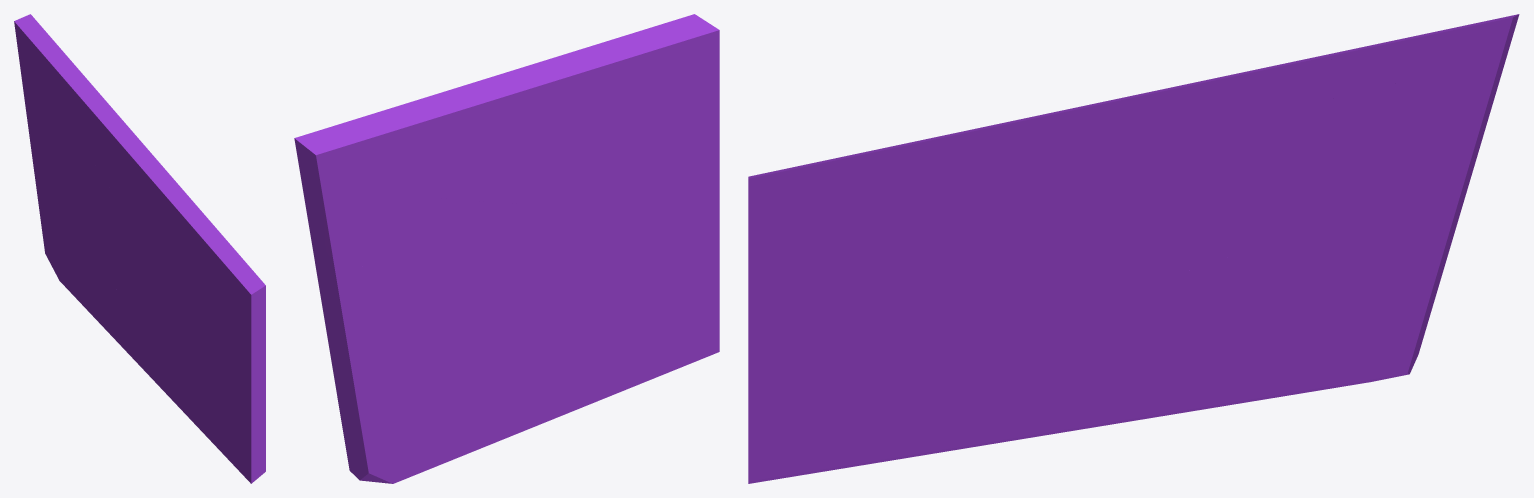
File: Window_16_6_chunks.fbx
The picture shows the model from 3 angles, left to right: view 1: azimuth 30°, elevation 25°; view 2: azimuth 150°, elevation 25°; view 3: azimuth 270°, elevation 25°; orthographic projection. The views are drawn at different scales.
Visible parts, largest first — view 1: Window_16_6_2, Window_16_6_1, Window_16_6_0, Window_16_6_6, Window_16_6_4, Window_16_6_3; view 2: Window_16_6_2, Window_16_6_1, Window_16_6_0, Window_16_6_6, Window_16_6_4, Window_16_6_3, Window_16_6_5; view 3: Window_16_6_2, Window_16_6_1, Window_16_6_6, Window_16_6_3, Window_16_6_5, Window_16_6_4.
Part boxes in pixels (<box>): Window_16_6_2: <box>114,197,265,483</box>; Window_16_6_1: <box>24,98,120,345</box>; Window_16_6_0: <box>17,47,132,247</box>; Window_16_6_6: <box>80,78,189,207</box>; Window_16_6_4: <box>14,14,86,134</box>; Window_16_6_3: <box>75,132,152,222</box>; Window_16_6_2: <box>485,14,719,441</box>; Window_16_6_1: <box>314,251,497,483</box>; Window_16_6_0: <box>321,190,517,292</box>; Window_16_6_6: <box>390,54,576,174</box>; Window_16_6_4: <box>294,108,431,219</box>; Window_16_6_3: <box>420,128,551,203</box>; Window_16_6_5: <box>300,175,325,255</box>; Window_16_6_2: <box>748,119,1193,483</box>; Window_16_6_1: <box>1172,124,1485,414</box>; Window_16_6_6: <box>996,55,1331,178</box>; Window_16_6_3: <box>1066,138,1340,273</box>; Window_16_6_5: <box>1302,56,1501,205</box>; Window_16_6_4: <box>1305,14,1519,99</box>.
Size of the model in its own units: 27.2 by 522 by 762.
